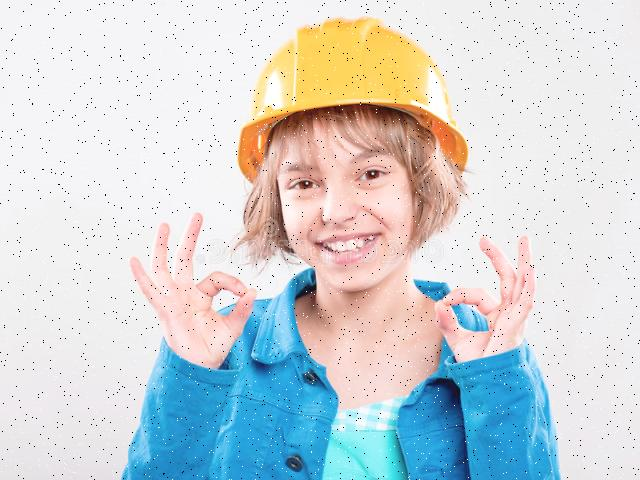Helmet: (234, 7, 475, 202)
